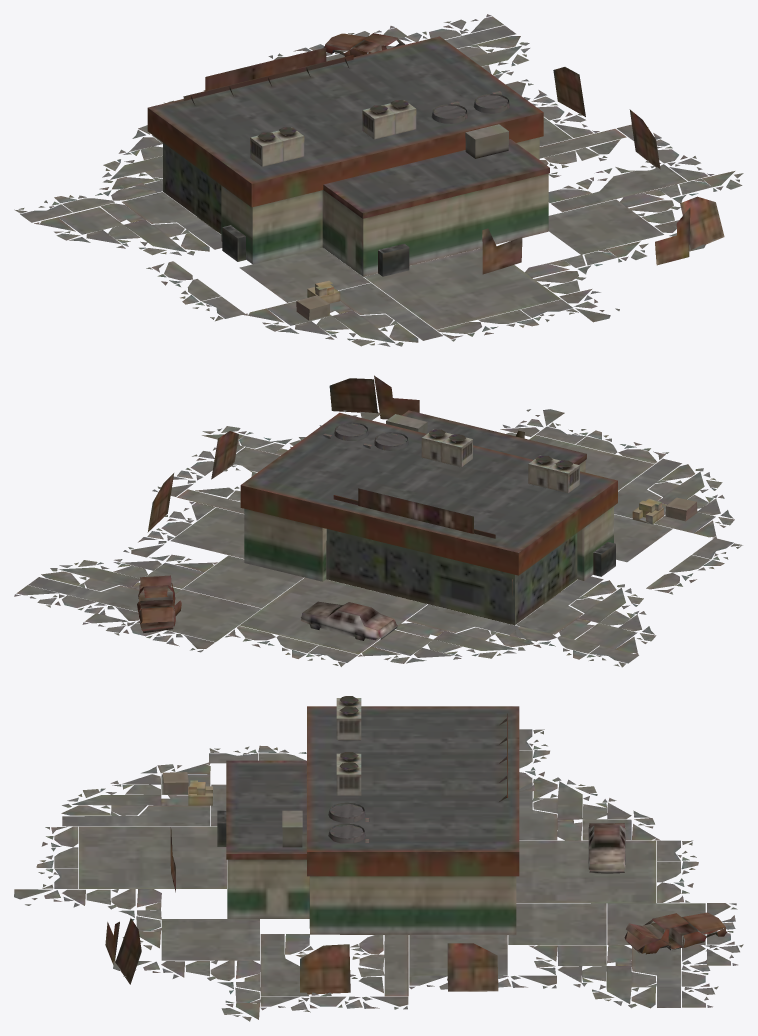
The model's file is supermarket_1.glb.
The picture shows the model from 3 angles, top to bottom: view 1: azimuth 30°, elevation 25°; view 2: azimuth 150°, elevation 25°; view 3: azimuth 270°, elevation 25°; orthographic projection. The views are drawn at different scales.
Visible parts, largest first — view 1: supermarket_hlod; view 2: supermarket_hlod; view 3: supermarket_hlod.
Part boxes in pixels (x1=…): supermarket_hlod: x1=14, y1=14, x2=743, y2=346; supermarket_hlod: x1=14, y1=375, x2=742, y2=667; supermarket_hlod: x1=14, y1=696, x2=743, y2=1021.
Size of the model in its own units: 41.85 by 7.64 by 44.21.
1 material, 1 textured.
